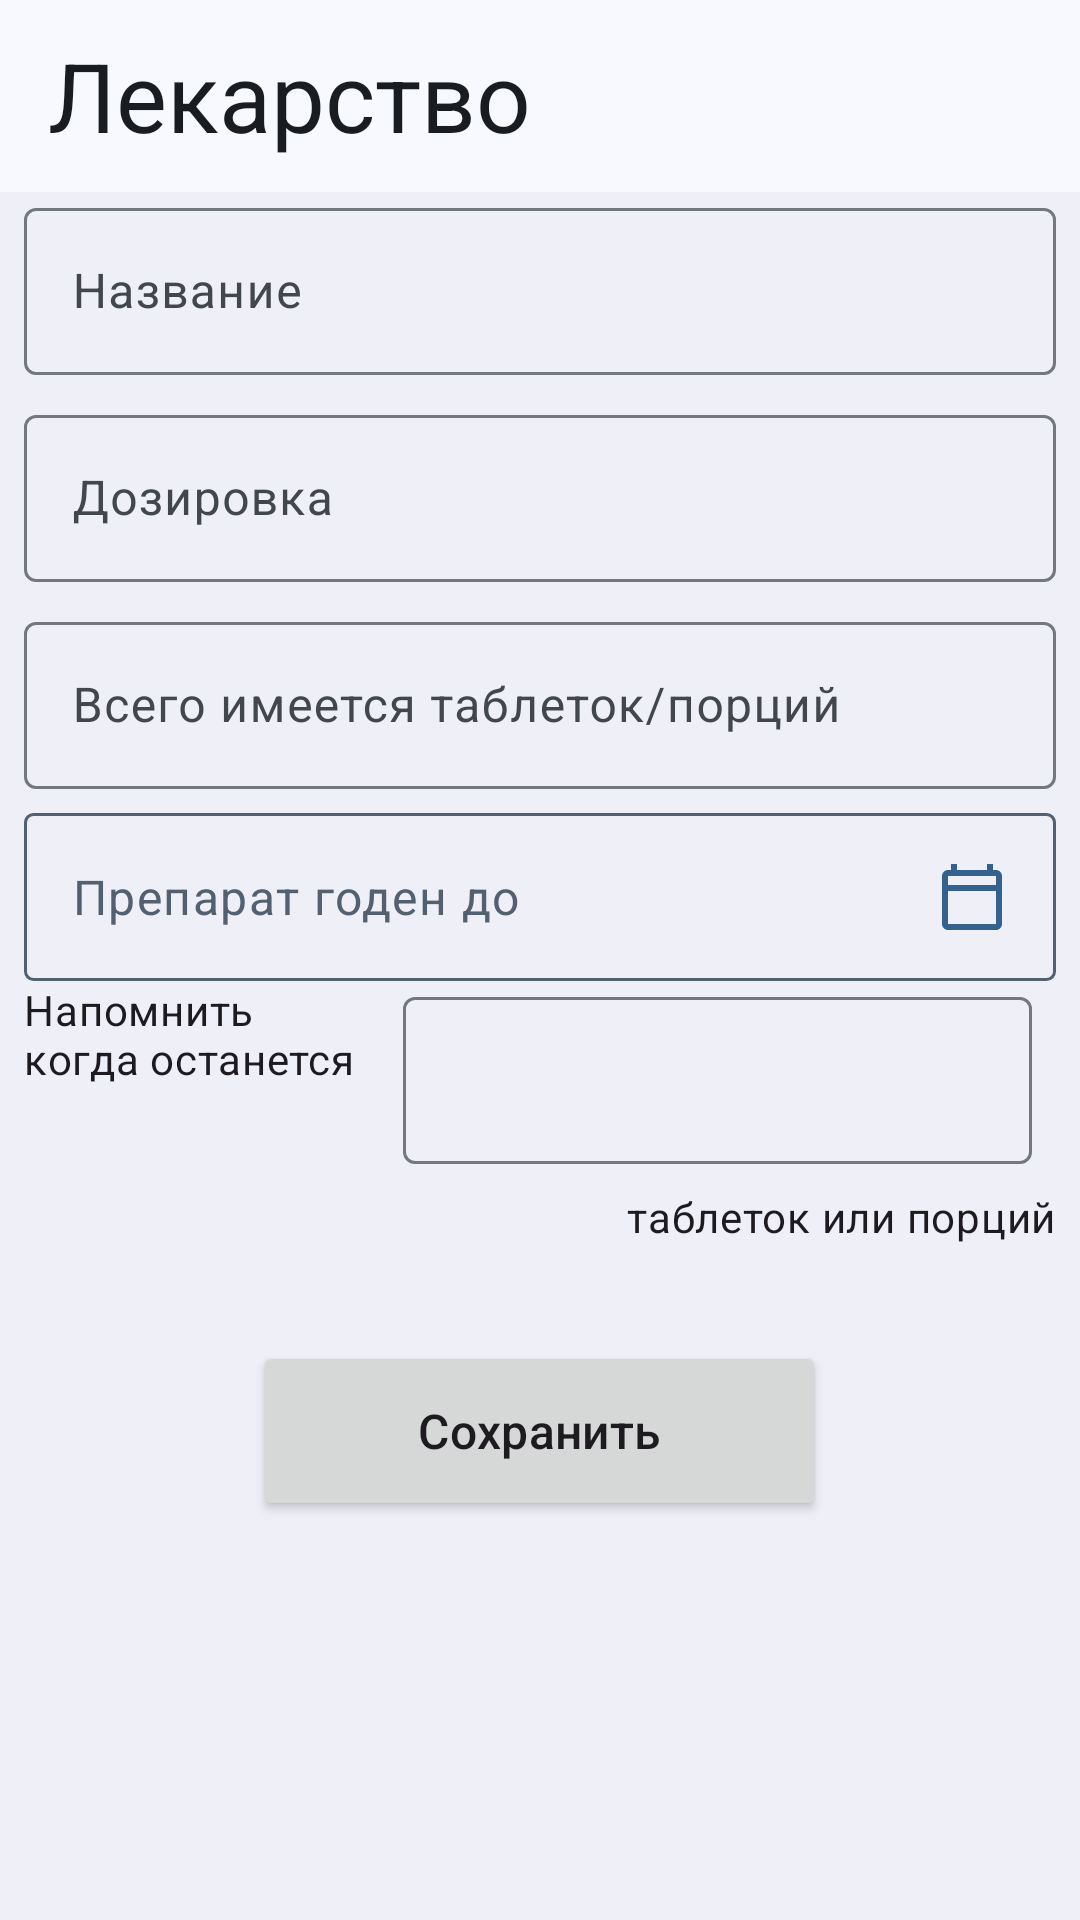

Icons on this 1080px×1920px Android screen, each with its box as (x1, y1, x2, y2):
calendar today: (942, 864, 1002, 930)
